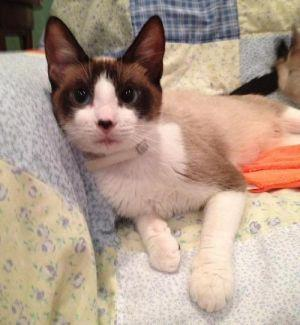ragdoll: (33, 6, 190, 160)
